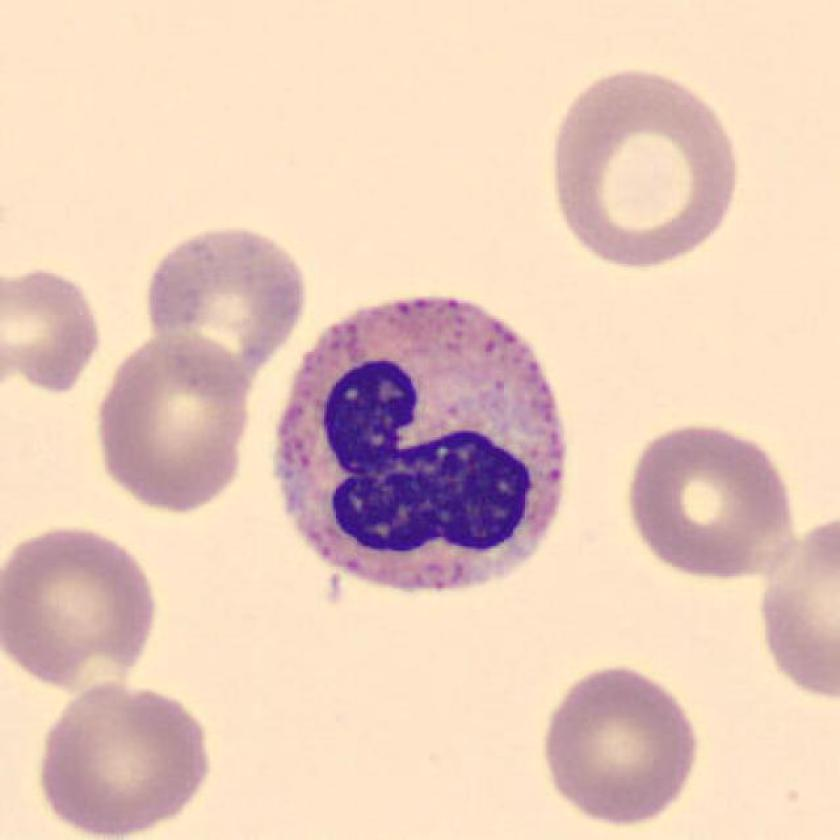neutrophil: (278, 300, 568, 593)
